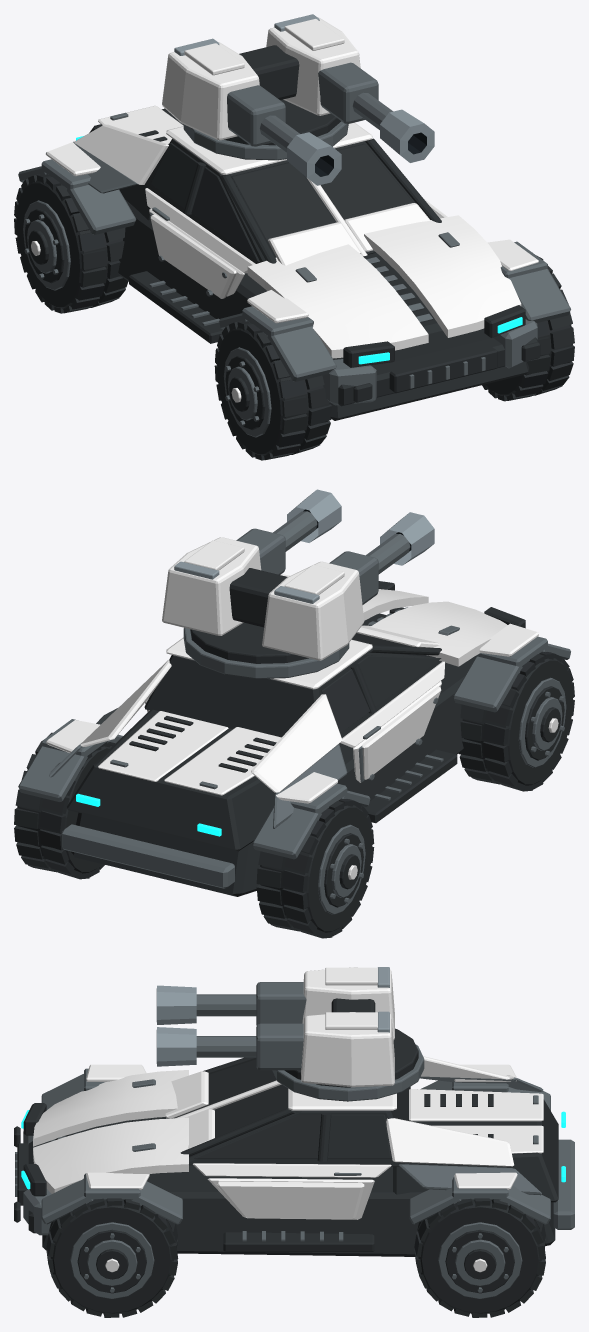
The model's file is explorer-twin-cannon.glb.
The picture shows the model from 3 angles, top to bottom: view 1: azimuth 30°, elevation 25°; view 2: azimuth 150°, elevation 25°; view 3: azimuth 270°, elevation 25°; orthographic projection. The views are drawn at different scales.
Parts seen in each view (by area): view 1: modelRoot:structure, modelRoot:team-primary, modelRoot:neutral-metal, Faceted side armor -1, Faceted side armor 1, Recoil housing 1, Recoil housing -1, Twin breech bridge, Muzzle brake 1, Muzzle brake -1, Wide turret bearing, Turret undercut (+4 smaller); view 2: modelRoot:structure, modelRoot:team-primary, modelRoot:neutral-metal, Faceted side armor -1, Faceted side armor 1, Wide turret bearing, Turret undercut, Twin breech bridge, Muzzle brake 1, Muzzle brake -1, Recoil housing 1, Recoil housing -1 (+4 smaller); view 3: modelRoot:structure, modelRoot:team-primary, modelRoot:neutral-metal, Faceted side armor 1, Faceted side armor -1, Recoil housing 1, Wide turret bearing, Recoil housing -1, Muzzle brake 1, Muzzle brake -1, Barrel -1, Barrel 1 (+4 smaller).
Part boxes in pixels (bbox=[...]): modelRoot:structure: bbox=[14, 108, 574, 460]; modelRoot:team-primary: bbox=[31, 105, 538, 402]; modelRoot:neutral-metal: bbox=[18, 112, 570, 437]; Faceted side armor -1: bbox=[162, 42, 259, 140]; Faceted side armor 1: bbox=[266, 17, 360, 115]; Recoil housing 1: bbox=[318, 62, 378, 123]; Recoil housing -1: bbox=[227, 85, 285, 146]; Twin breech bridge: bbox=[239, 45, 299, 99]; Muzzle brake 1: bbox=[380, 109, 434, 162]; Muzzle brake -1: bbox=[287, 132, 341, 185]; Wide turret bearing: bbox=[183, 121, 348, 160]; Turret undercut: bbox=[224, 99, 341, 145]; modelRoot:structure: bbox=[14, 581, 574, 938]; modelRoot:team-primary: bbox=[46, 574, 558, 879]; modelRoot:neutral-metal: bbox=[18, 607, 570, 914]; Faceted side armor -1: bbox=[262, 561, 364, 660]; Faceted side armor 1: bbox=[162, 537, 261, 635]; Wide turret bearing: bbox=[183, 627, 349, 678]; Turret undercut: bbox=[190, 622, 308, 663]; Twin breech bridge: bbox=[229, 568, 287, 627]; Muzzle brake 1: bbox=[287, 489, 341, 542]; Muzzle brake -1: bbox=[380, 512, 434, 565]; Recoil housing 1: bbox=[236, 528, 285, 574]; Recoil housing -1: bbox=[329, 551, 378, 604]; modelRoot:structure: bbox=[14, 1057, 558, 1317]; modelRoot:team-primary: bbox=[33, 1056, 543, 1272]; modelRoot:neutral-metal: bbox=[15, 1068, 574, 1298]; Faceted side armor 1: bbox=[301, 1012, 394, 1087]; Faceted side armor -1: bbox=[302, 967, 394, 1039]; Recoil housing 1: bbox=[256, 1023, 303, 1070]; Wide turret bearing: bbox=[272, 1044, 424, 1101]; Recoil housing -1: bbox=[256, 982, 306, 1025]; Muzzle brake 1: bbox=[156, 1027, 196, 1066]; Muzzle brake -1: bbox=[156, 985, 196, 1024]; Barrel -1: bbox=[196, 994, 256, 1016]; Barrel 1: bbox=[196, 1036, 256, 1057].
Size of the model in its own units: 1.54 by 1.29 by 2.55.
